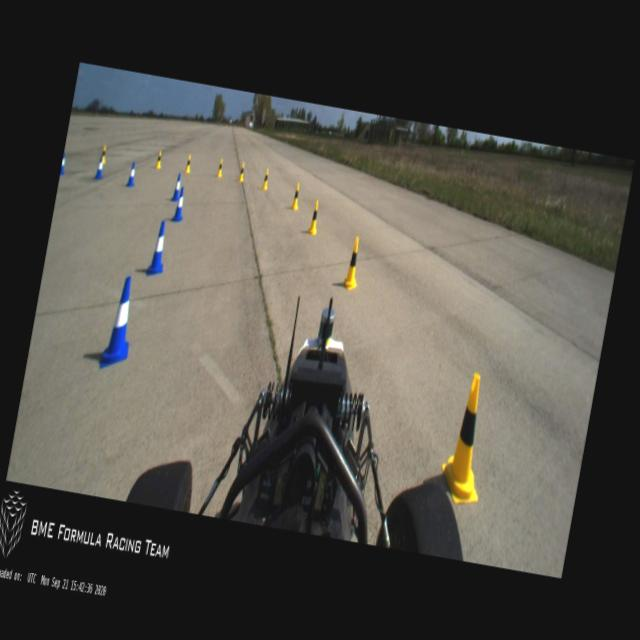blue_cone: (99, 275, 140, 370), (147, 220, 170, 276), (170, 185, 187, 222), (171, 173, 182, 201), (126, 162, 137, 186), (94, 158, 105, 180), (60, 152, 66, 175)
yellow_cone: (436, 372, 498, 506), (340, 236, 364, 292), (307, 198, 321, 236), (290, 182, 301, 210), (261, 168, 270, 190), (100, 144, 108, 164), (216, 158, 224, 178), (154, 150, 162, 169), (184, 154, 192, 172), (238, 162, 245, 181)
